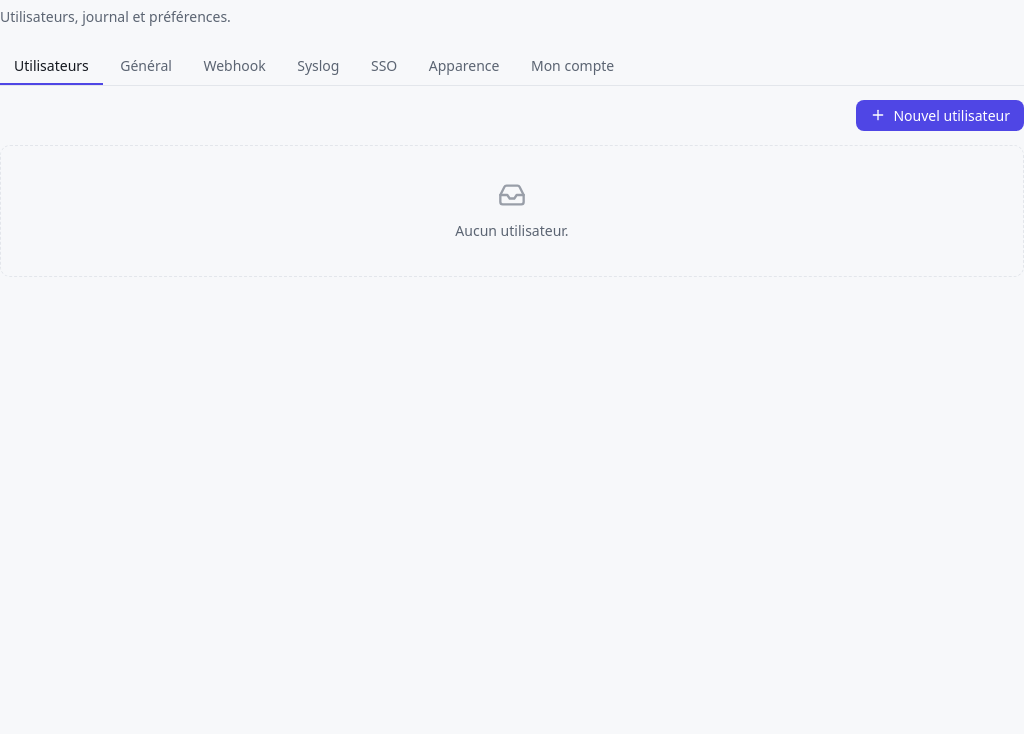
réglages SSO › affiche l'échec de la découverte
What coordinates should you click on to do the following:
click the tab "SSO"
I would click on:
 (384, 66)
Its box is [357,48,411,84].
(page scrolled)
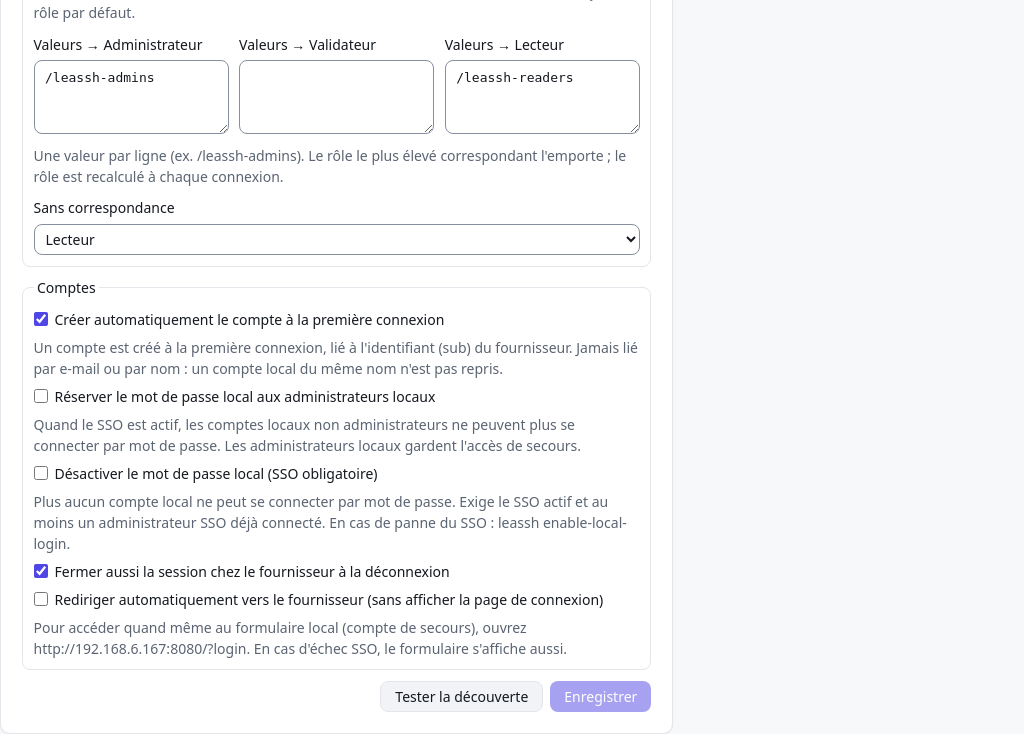
What coordinates should you click on to do the following:
click the button "Tester la découverte"
I would click on:
 (462, 696)
Its box is [380,680,543,712].
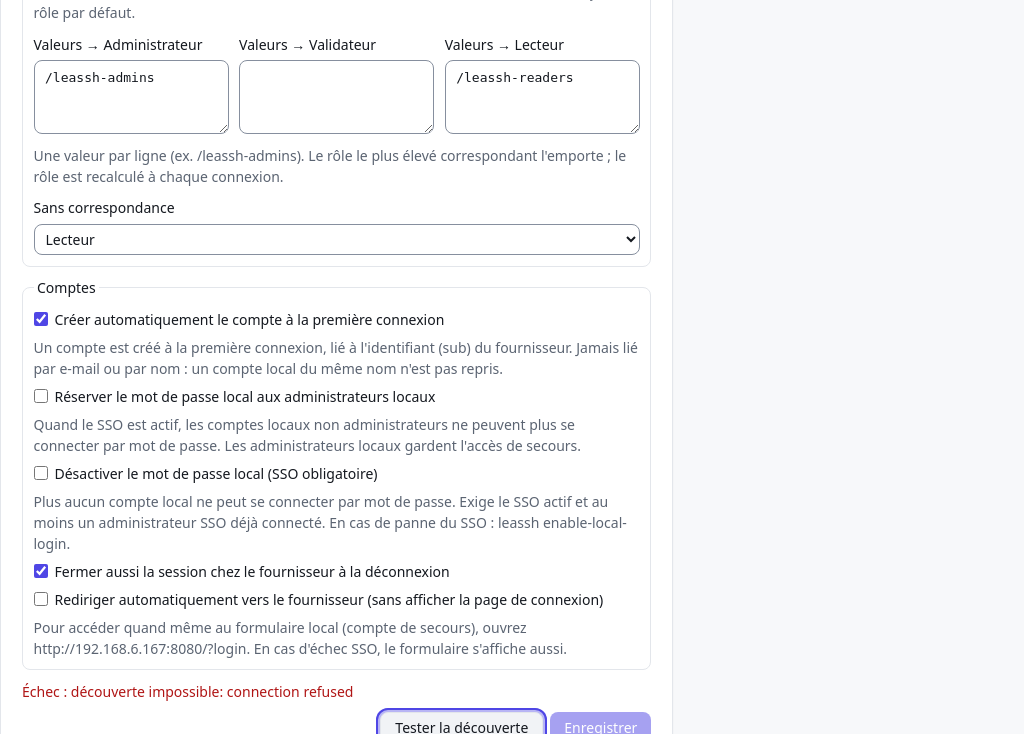
Expected: the text "Échec : découverte impossible: connection refused" is shown, [22,682,354,700]
